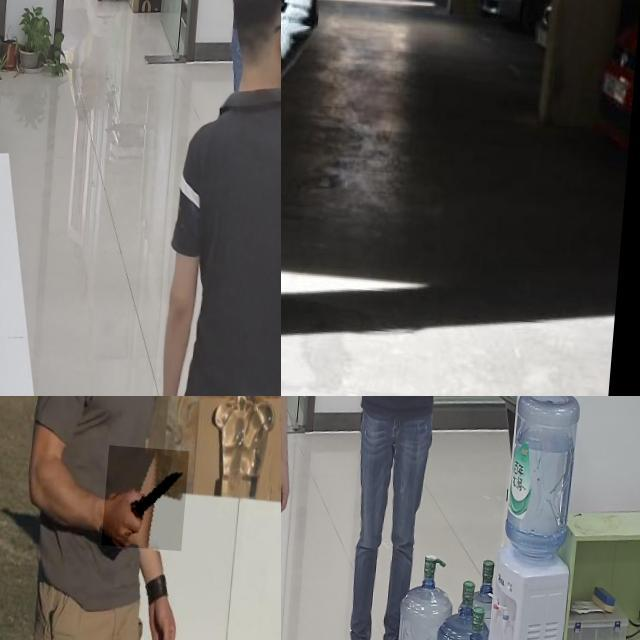-: (109, 441, 195, 546), (281, 0, 309, 111)
gun-knife-thesis - v11 Yolov5 augmented: (281, 460, 302, 559)
